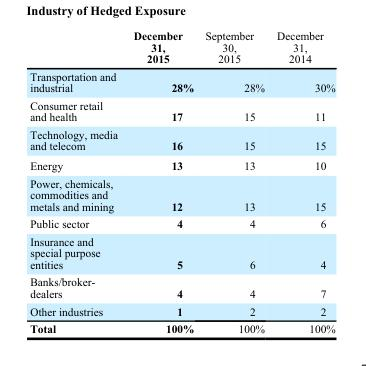table: (29, 29, 334, 334)
table column: (29, 29, 124, 334), (124, 29, 198, 334), (198, 29, 270, 334), (270, 29, 334, 334)
table column header: (29, 29, 334, 66)
table row: (29, 174, 334, 214), (29, 232, 334, 272), (29, 29, 334, 66), (29, 66, 334, 96), (29, 125, 334, 155), (29, 96, 334, 125), (29, 272, 334, 301), (29, 155, 334, 174), (29, 214, 334, 232), (29, 301, 334, 319), (29, 319, 334, 334)
